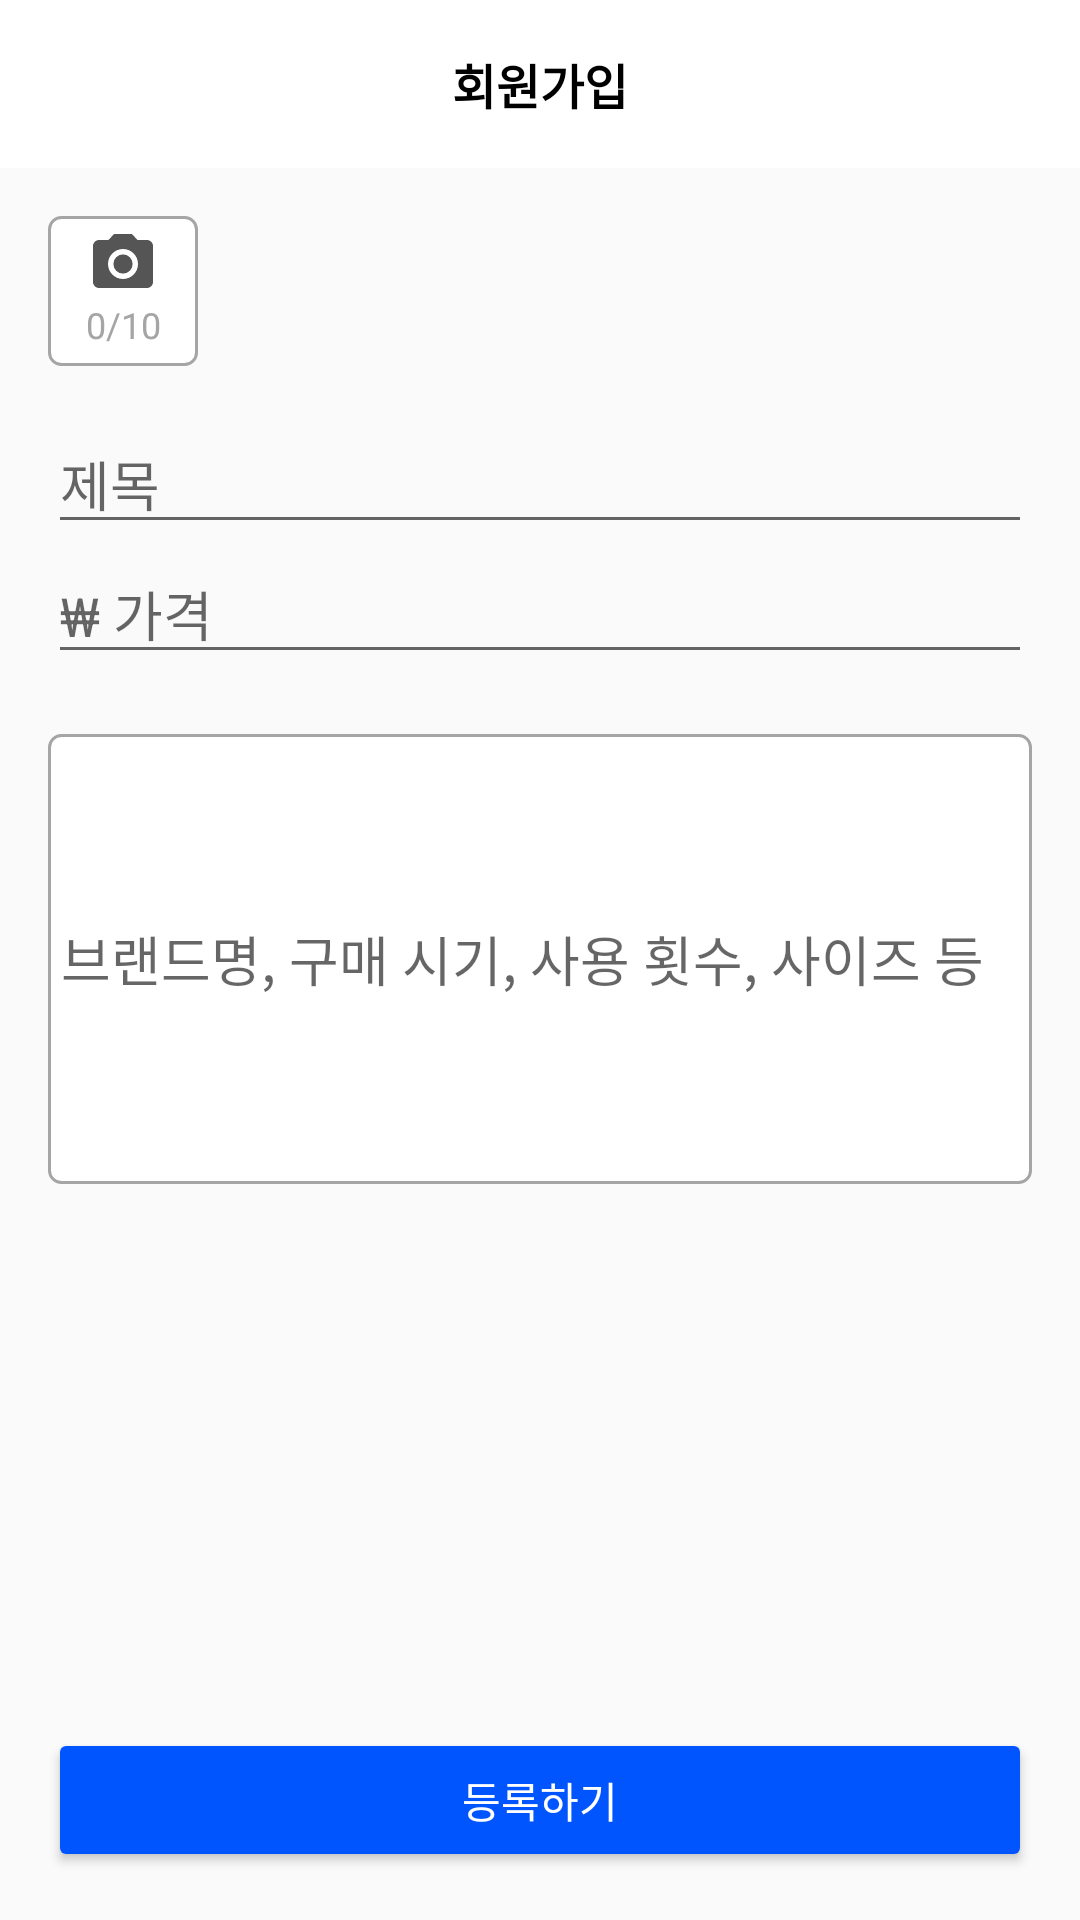

Where to tap for icons on this 1080w x 1920h app screen, as [x,y]:
photo camera: [123,261]
